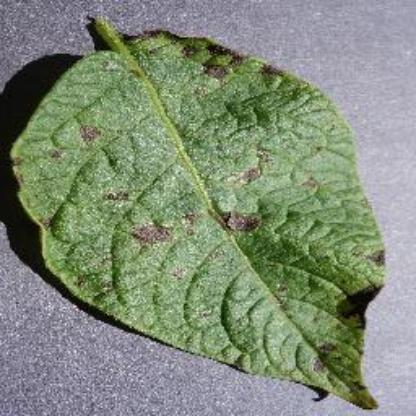Early-Blight: (13, 13, 388, 409)
